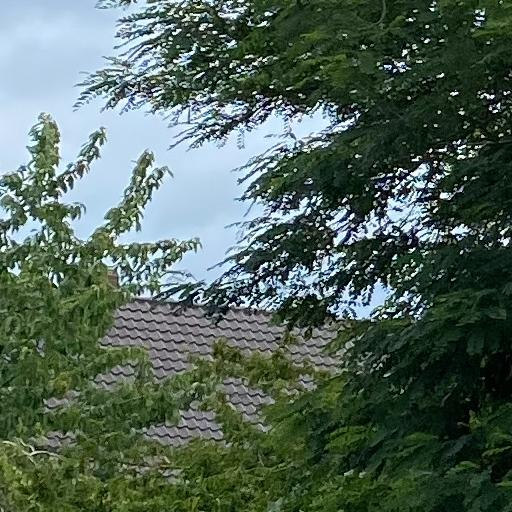tree: (73, 1, 512, 512), (1, 112, 230, 511)
